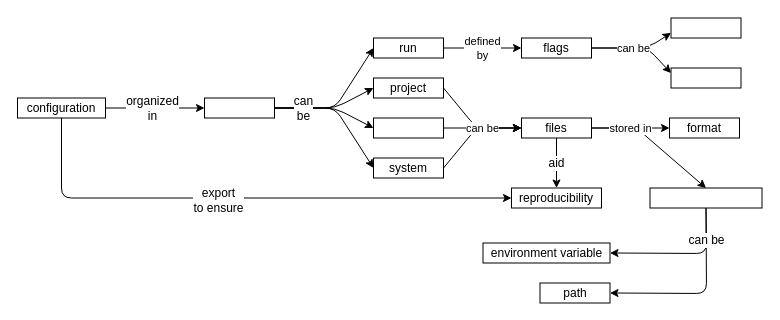
The diagram is 780 pixels wide and 320 high, and some of its shapes have lost their labels. The shapes that lost their labels are listed below. From the top down, each one's box as (x1, y1, x2, y2) in pixels, then its label:
(670, 17, 741, 38): short
(670, 67, 741, 88): long
(204, 97, 274, 118): layers
(372, 117, 444, 138): user
(649, 187, 762, 208): standard locations
